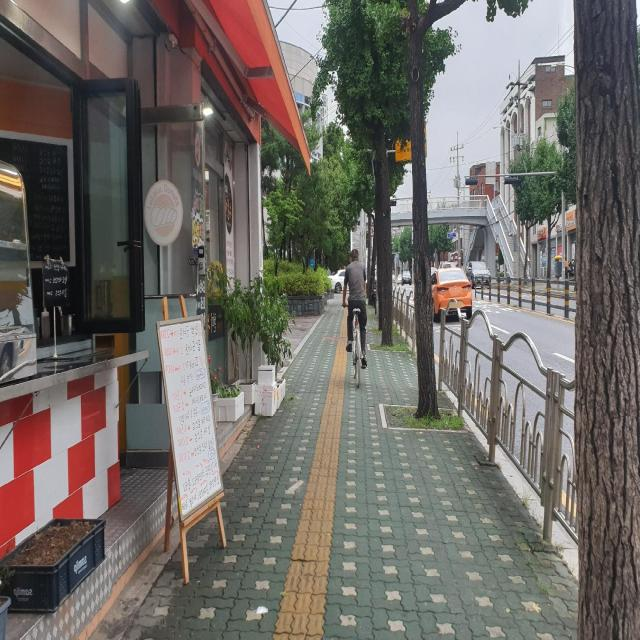barrier ahead at: (153, 291, 233, 582)
bicycle ahead at: (339, 239, 372, 391)
tree ahead at: (396, 2, 454, 442)
